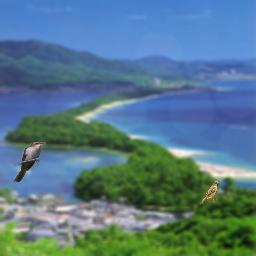Cuckoo: (14, 142, 46, 182)
Sparrow: (200, 181, 219, 204)
